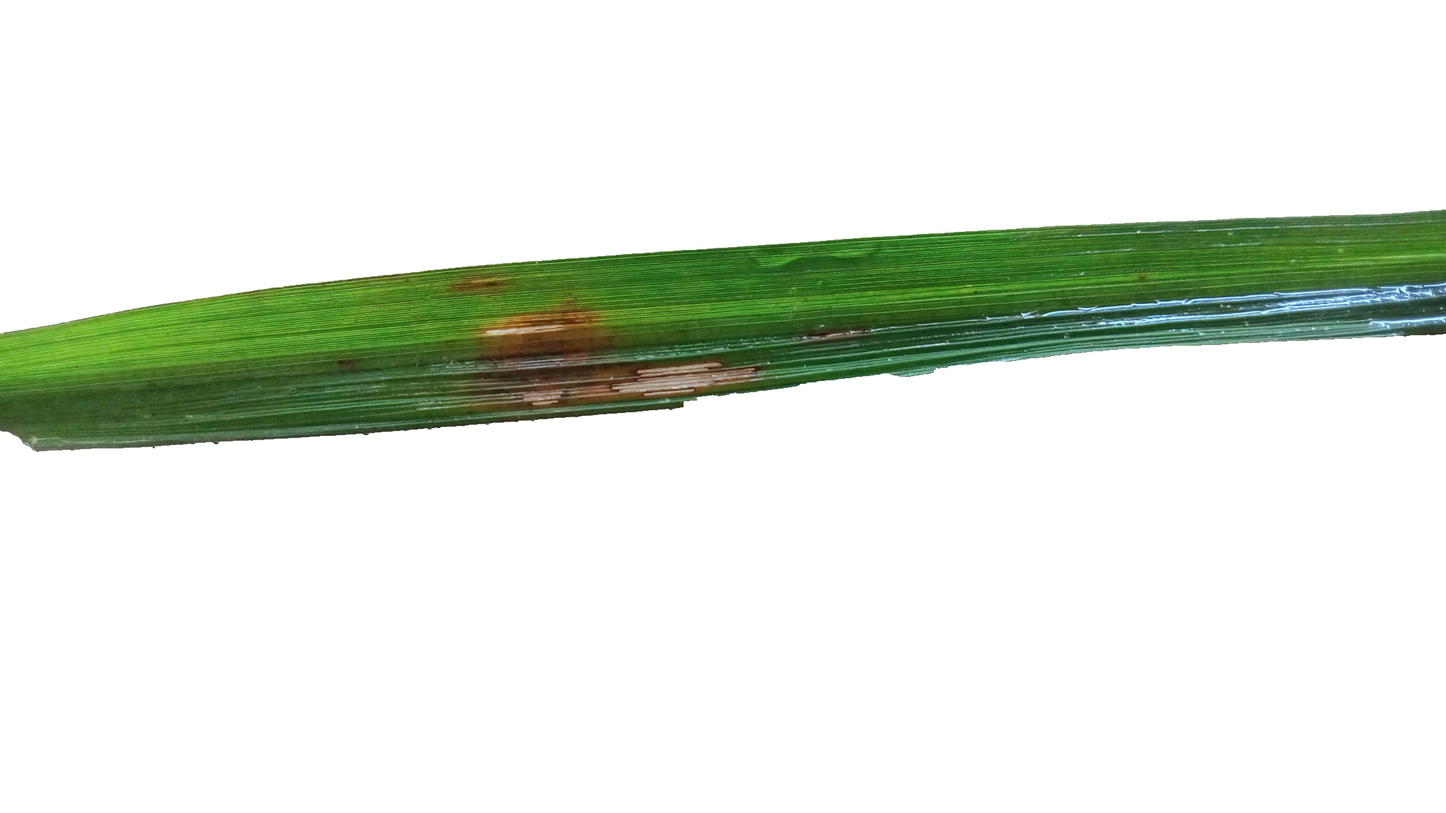Blight: (473, 283, 608, 405), (600, 337, 759, 403), (799, 297, 862, 361)
